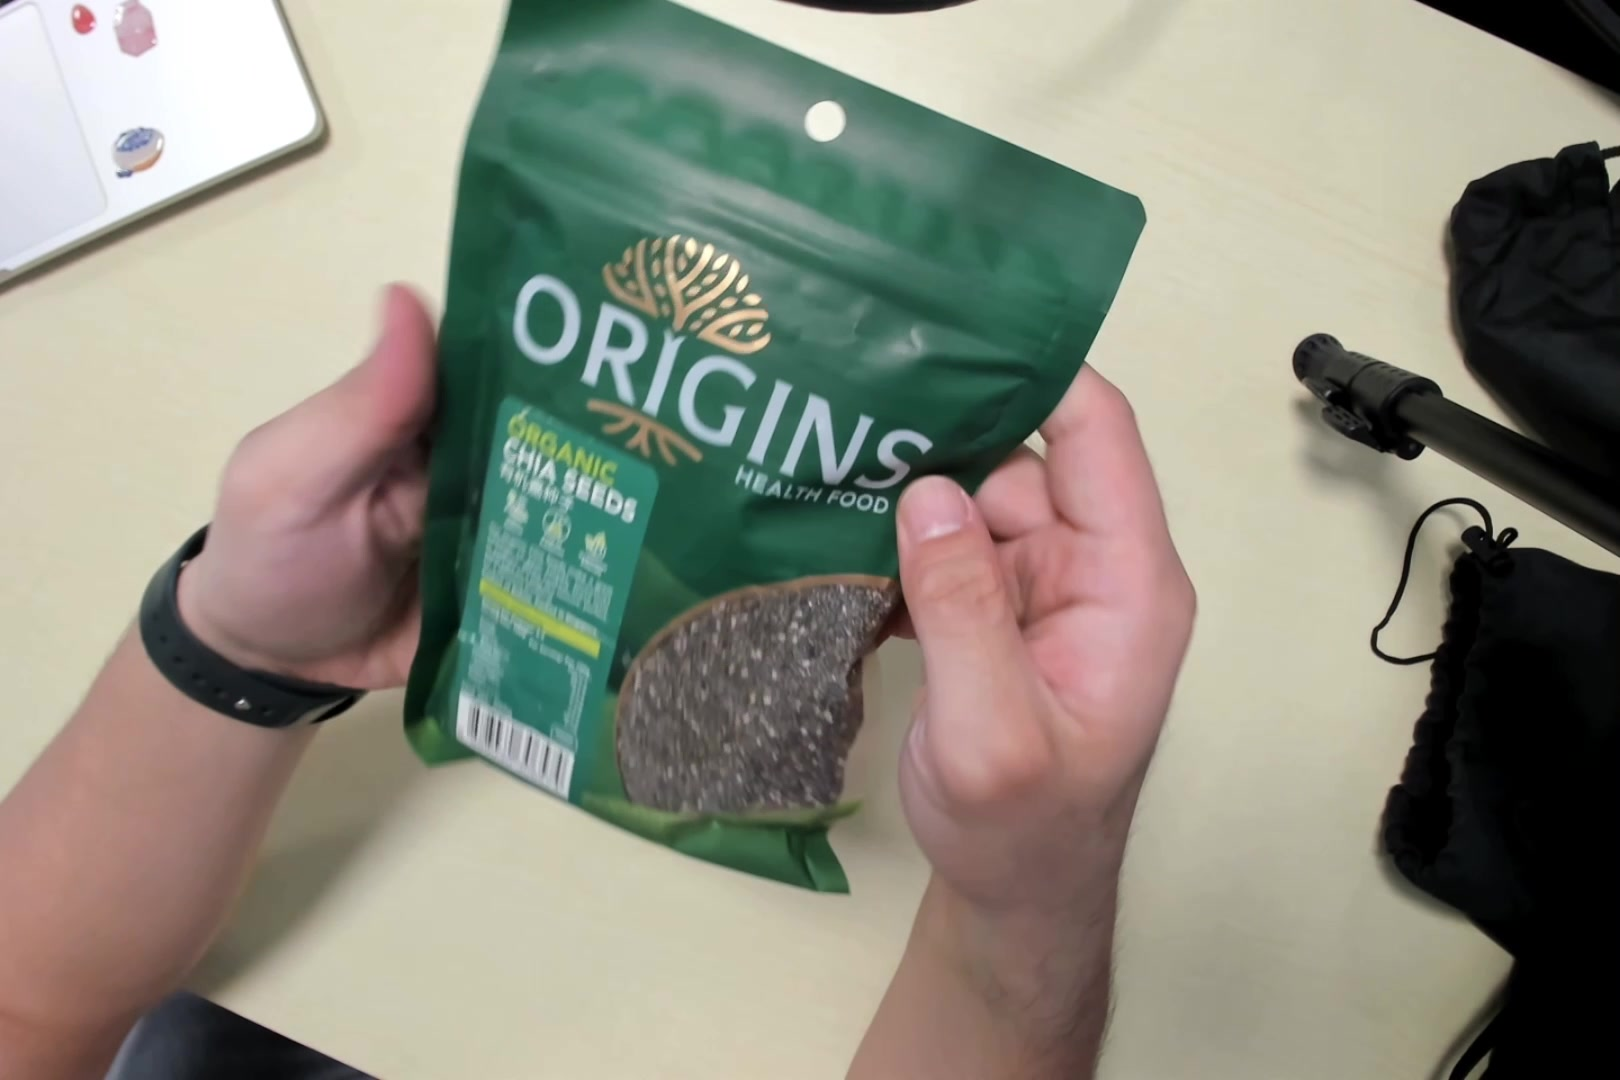OtherDriedFood_200-299g_NonHalal_NonHealthy: (417, 27, 1110, 896)
